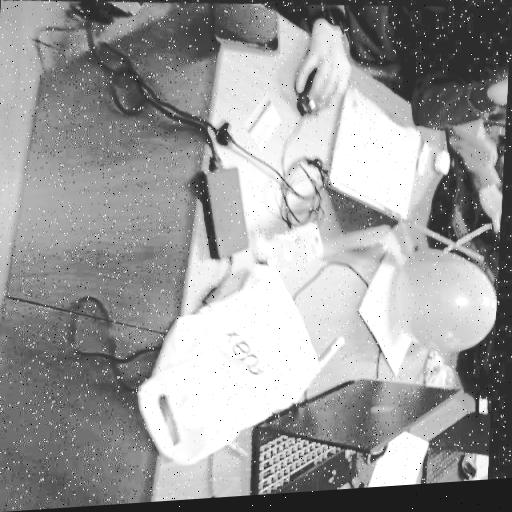balloon: (388, 228, 502, 353)
